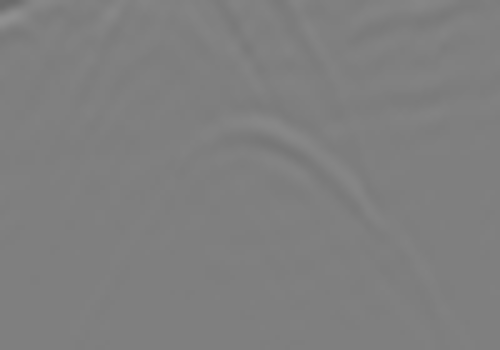hyperbola: (128, 116, 415, 298)
